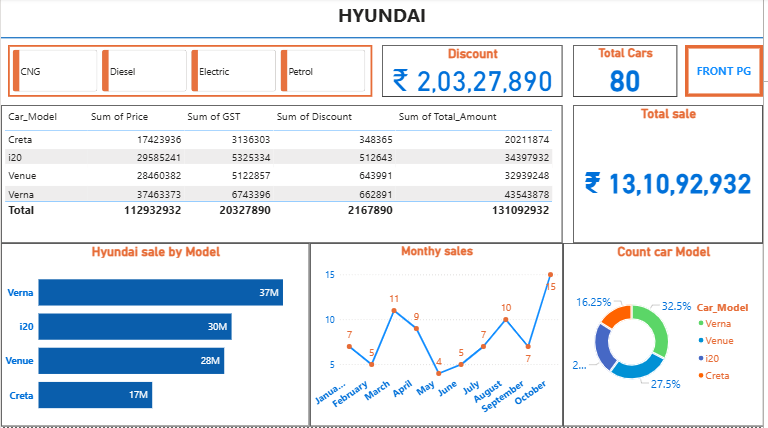

The page's visual inventory and layout, read from the dashboard file:
{"tool":"powerbi","page":{"name":"Hyundai","canvas":[1280,720],"ordinal":6},"visuals":[{"type":"textbox","box":[0,0,1280,65],"z":0},{"type":"barChart","title":"Hyundai sale by Model","fields":{"Category":["car_sales_2025_india_updated.Car_Model"],"Y":["Sum(car_sales_2025_india_updated.Price)"]},"box":[0,411.7,518.3,308.3],"z":1000},{"type":"donutChart","title":"Count car Model","fields":{"Category":["car_sales_2025_india_updated.Car_Model"],"Y":["CountNonNull(car_sales_2025_india_updated.Price)"]},"box":[943.3,411.7,336.7,308.3],"z":2000},{"type":"lineChart","title":"Monthy sales","fields":{"Category":["car_sales_2025_india_updated.Delivery_Date.Variation.Date Hierarchy.Month"],"Y":["Count(car_sales_2025_india_updated.Price)"]},"box":[518.3,411.7,425,308.3],"z":3000},{"type":"tableEx","fields":{"Values":["car_sales_2025_india_updated.Car_Model","Sum(car_sales_2025_india_updated.Price)","Sum(car_sales_2025_india_updated.GST)","Sum(car_sales_2025_india_updated.Discount)","Sum(car_sales_2025_india_updated.Total_Amount)"]},"box":[0,180,943.3,231.7],"z":4000},{"type":"shape","box":[0,10,1280,113.3],"z":5000},{"type":"card","title":"Total Cars","fields":{"Values":["CountNonNull(car_sales_2025_india_updated.Car_Model)"]},"box":[960.8,79,174.7,87.3],"z":6000},{"type":"card","title":"Discount","fields":{"Values":["Sum(car_sales_2025_india_updated.GST)"]},"box":[640,78.3,303.3,86.7],"z":7000},{"type":"card","title":"Total sale","fields":{"Values":["Sum(car_sales_2025_india_updated.Total_Amount)"]},"box":[960.8,179.7,319.2,231.8],"z":9000},{"type":"advancedSlicerVisual","fields":{"Values":["car_sales_2025_india_updated.Fuel_Type"]},"box":[11.7,78.3,611.7,86.7],"z":10000},{"type":"actionButton","box":[1149,79,131,87.3],"z":10001}]}

Visuals, with their boxes in screenshot pixels (x1, y1, x2, y2), scaled from the page's 1280x720 canvas onto the 768x428 screenshot:
textbox: rect(0, 0, 767, 39)
"Hyundai sale by Model" barChart: rect(0, 245, 311, 427)
"Count car Model" donutChart: rect(566, 245, 767, 427)
"Monthy sales" lineChart: rect(311, 245, 566, 427)
tableEx - car_sales_2025_india_updated.Car_Model x Sum(car_sales_2025_india_updated.Price): rect(0, 107, 566, 245)
shape: rect(0, 6, 767, 73)
"Total Cars" card: rect(576, 47, 681, 99)
"Discount" card: rect(384, 47, 566, 98)
"Total sale" card: rect(576, 107, 767, 245)
advancedSlicerVisual - car_sales_2025_india_updated.Fuel_Type: rect(7, 47, 374, 98)
actionButton: rect(689, 47, 767, 99)
